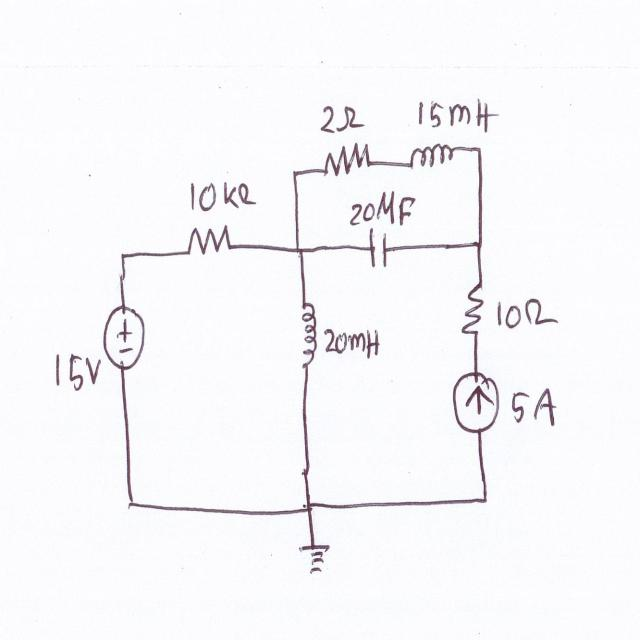capacitor: (365, 226, 392, 271)
current_source: (442, 366, 504, 439)
ground: (298, 536, 334, 579)
inductor: (290, 298, 322, 374), (404, 141, 456, 177)
resistor: (176, 222, 245, 264), (316, 136, 375, 182), (458, 277, 487, 345)
voltage_source: (99, 300, 150, 375)
